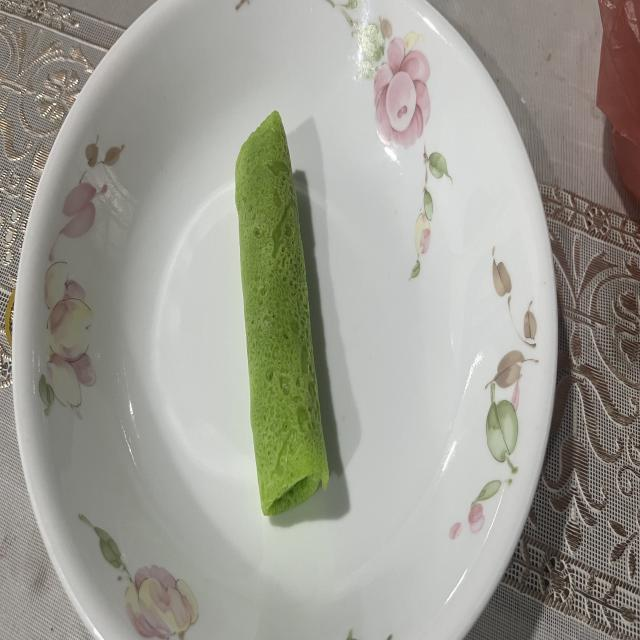Kuih-Ketayap: (235, 111, 329, 516)
